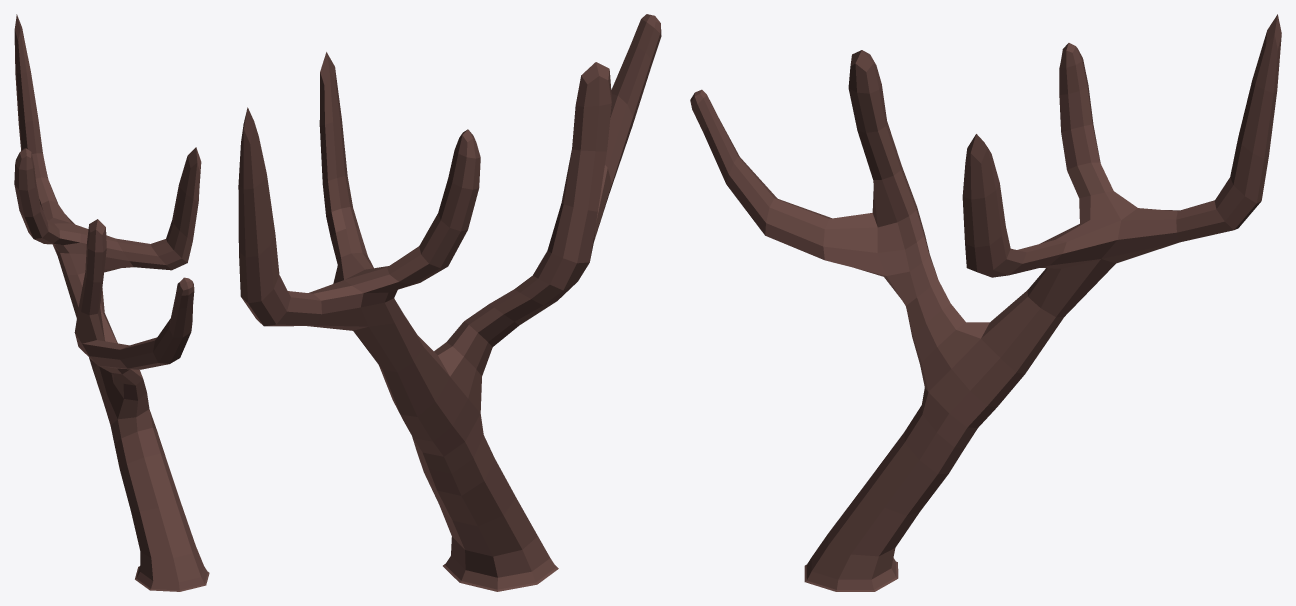
File: Willow_Dead_4.gltf
3 views of the same model, side by side, from view 1: azimuth 30°, elevation 25°; view 2: azimuth 150°, elevation 25°; view 3: azimuth 270°, elevation 25° (orthographic). The views are drawn at different scales.
Visible parts, largest first — view 1: Willow_Dead_4; view 2: Willow_Dead_4; view 3: Willow_Dead_4.
Part boxes in pixels (x1,y1,x2,y2): Willow_Dead_4: [14, 14, 209, 591]; Willow_Dead_4: [238, 14, 661, 591]; Willow_Dead_4: [690, 14, 1281, 591].
Size of the model in its own units: 1.01 by 2.72 by 2.59.
